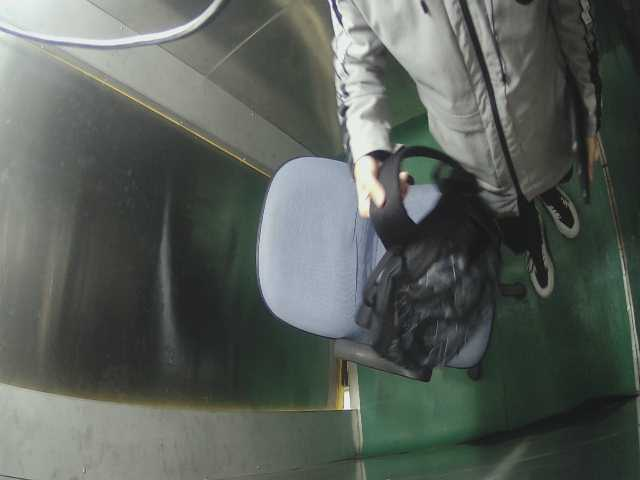bag: (348, 149, 497, 349)
chair: (252, 148, 526, 378)
person: (317, 1, 587, 297)
